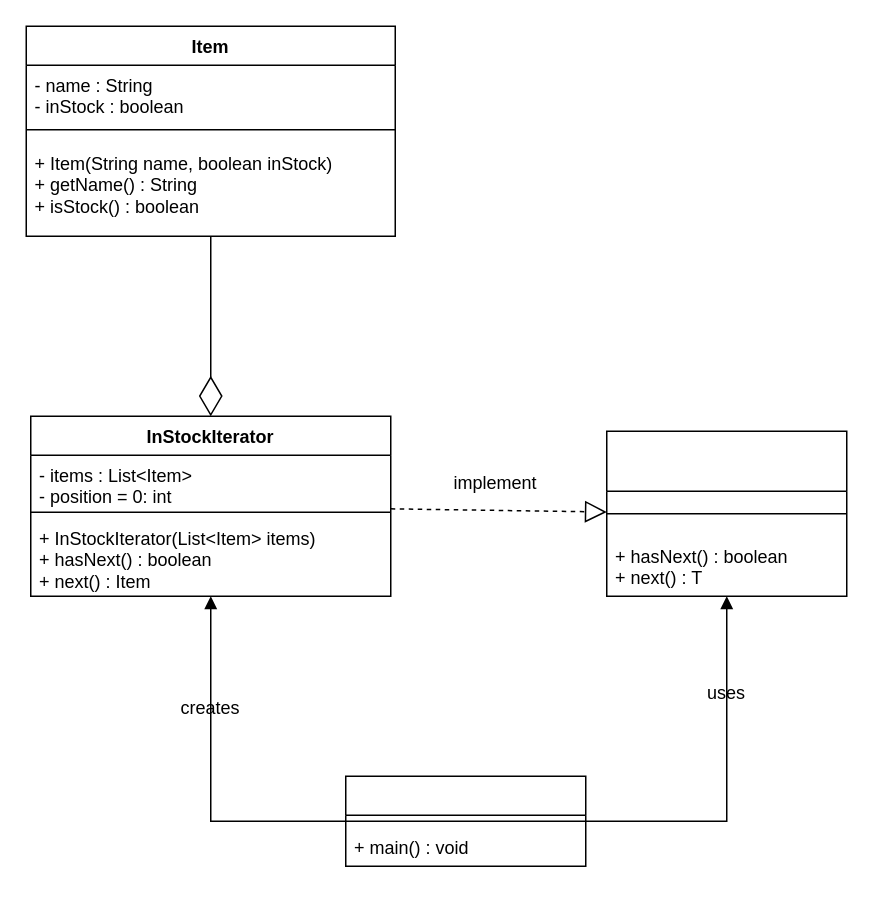
The diagram is 873 pixels wide and 897 high, and some of its shapes have lost their labels. Here are the shapes that lost their labels. From the top down, the box of each, then its label:
(605, 430, 847, 596): <<Interface>> Iterator<T>
(344, 775, 586, 866): InventoryApp
